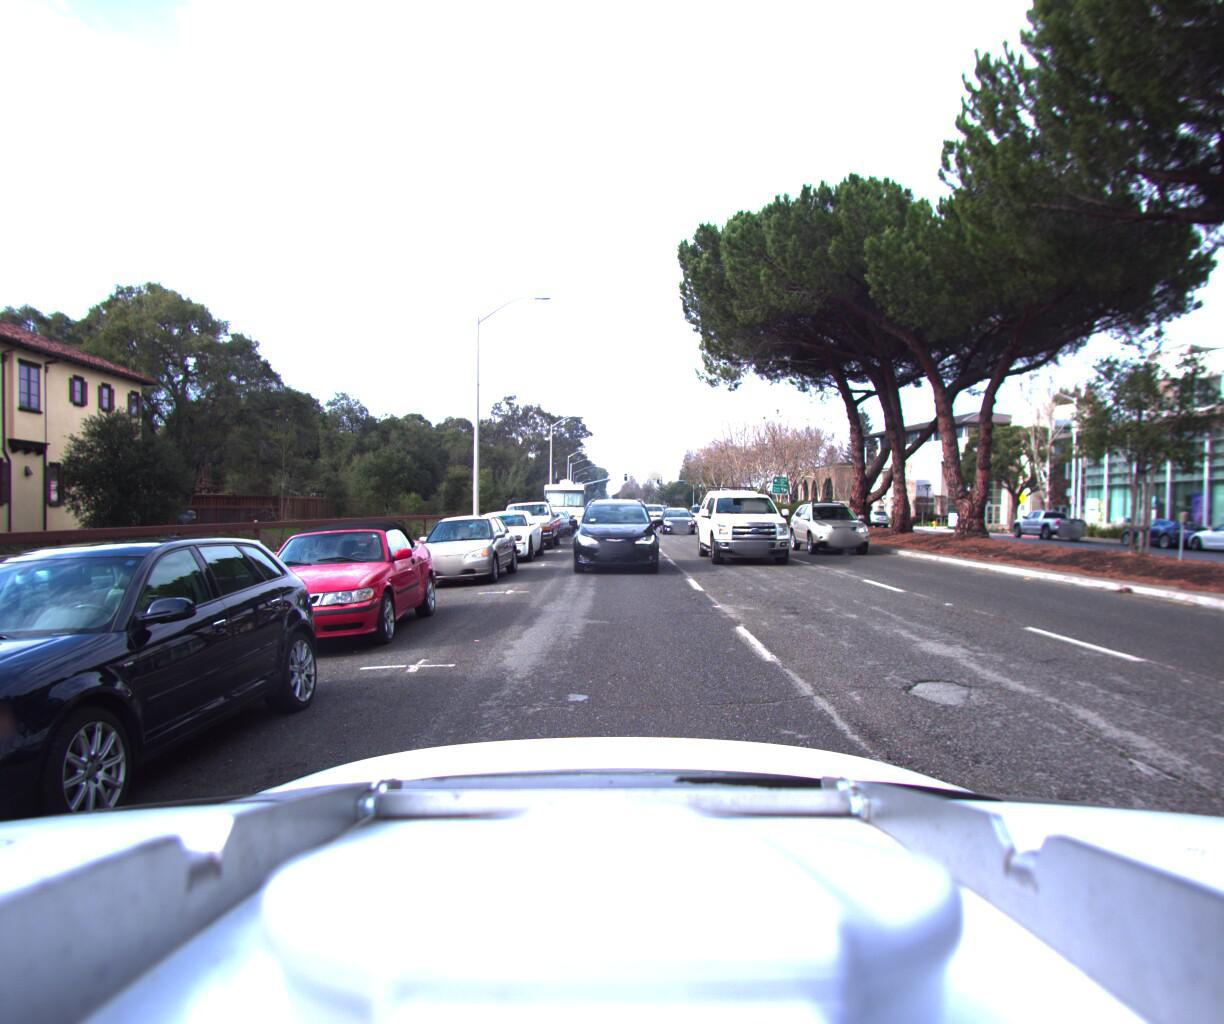car: (0, 526, 348, 935), (205, 514, 444, 660), (697, 474, 806, 568), (406, 509, 521, 590), (570, 491, 655, 573), (791, 498, 890, 559), (460, 504, 548, 564), (494, 489, 562, 548), (1110, 514, 1221, 549), (1007, 506, 1090, 538), (1177, 515, 1224, 557), (658, 497, 699, 532), (536, 505, 571, 536), (644, 511, 672, 535), (853, 506, 886, 525)
other_vehicle: (540, 470, 585, 529)
